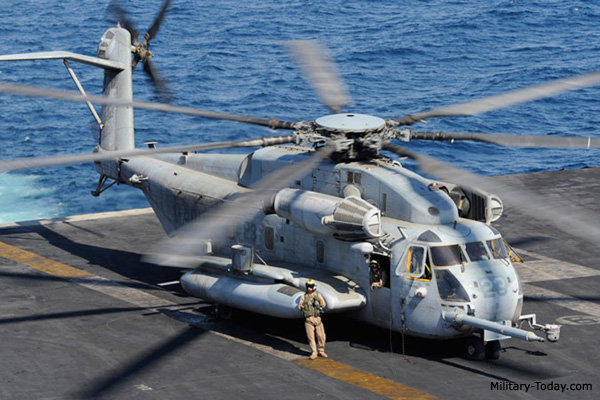MilitaryHelicopter: (81, 87, 574, 353)
